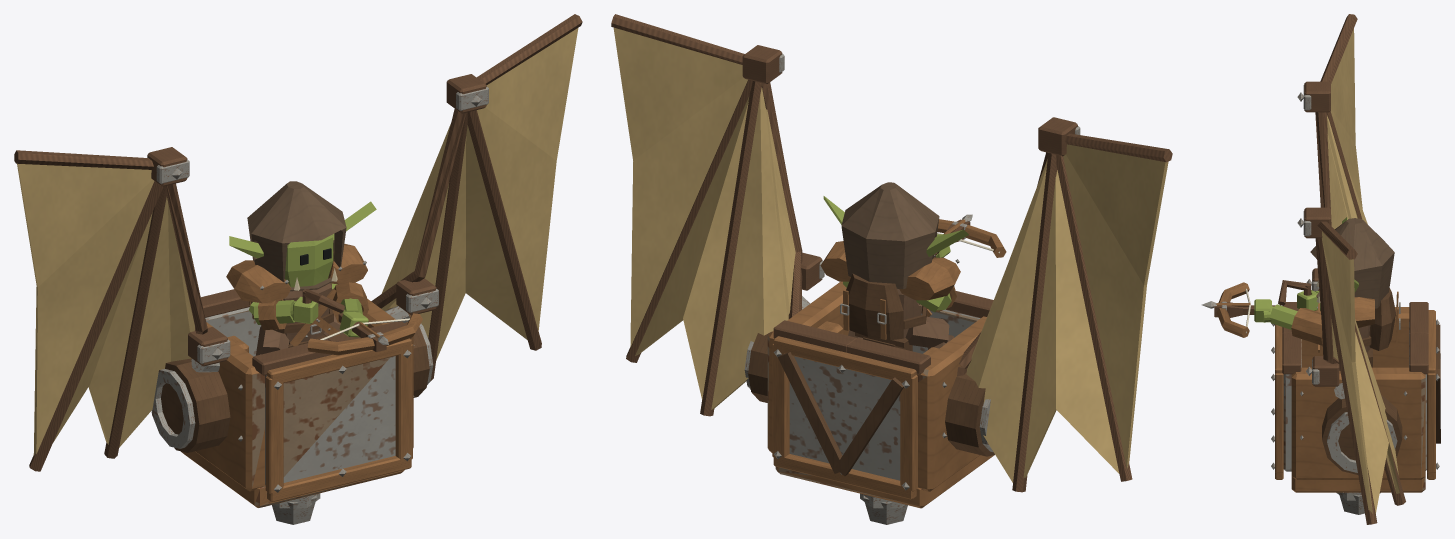
Rendered from host_28.glb.
The picture shows the model from 3 angles, left to right: view 1: azimuth 30°, elevation 25°; view 2: azimuth 150°, elevation 25°; view 3: azimuth 270°, elevation 25°; orthographic projection. The views are drawn at different scales.
Visible parts, largest first — view 1: Source RIGHT broad angular tan mechanical wing sail, Source LEFT broad angular tan mechanical wing sail, Connected riveted source hull with genuine OPEN top cockpit, Rider true deep peaked open source cowl, Rider one connected body, skull, ears, two arms, compact pal, Source LEFT wooden wing strut 0, Source RIGHT large visible side drum engine, Source RIGHT wooden wing strut 0, Source RIGHT wooden wing strut 1, Source LEFT wooden wing strut 1, Source RIGHT wooden wing strut 2, Source LEFT wooden wing strut 2 (+17 smaller); view 2: Source LEFT broad angular tan mechanical wing sail, Source RIGHT broad angular tan mechanical wing sail, Connected riveted source hull with genuine OPEN top cockpit, Rider true deep peaked open source cowl, Source LEFT wooden wing strut 0, Source LEFT wooden wing strut 2, Source RIGHT wooden wing strut 2, Source RIGHT wooden wing strut 1, Rider actual source broad rear leather pack, Source RIGHT large visible side drum engine, Source LEFT wooden wing strut 1, Rider one connected body, skull, ears, two arms, compact pal (+17 smaller); view 3: Connected riveted source hull with genuine OPEN top cockpit, Source LEFT broad angular tan mechanical wing sail, Source RIGHT broad angular tan mechanical wing sail, Rider true deep peaked open source cowl, Source RIGHT wooden wing strut 0, Source LEFT large visible side drum engine, Source LEFT wooden wing strut 0, Source LEFT wooden wing strut 1, Rider one connected body, skull, ears, two arms, compact pal, Rider actual source broad rear leather pack, Source LEFT actual open steel engine rim, Rider LEFT actual open sleeve cuff (+17 smaller).
Part boxes in pixels (left/top/right/bottom): Source RIGHT broad angular tan mechanical wing sail: left=17, top=163, right=194, bottom=455; Source LEFT broad angular tan mechanical wing sail: left=381, top=28, right=578, bottom=360; Connected riveted source hull with genuine OPEN top cockpit: left=181, top=299, right=413, bottom=507; Rider true deep peaked open source cowl: left=247, top=181, right=346, bottom=291; Rider one connected body, skull, ears, two arms, compact pal: left=229, top=201, right=376, bottom=355; Source LEFT wooden wing strut 0: left=371, top=14, right=582, bottom=308; Source RIGHT large visible side drum engine: left=161, top=358, right=230, bottom=452; Source RIGHT wooden wing strut 0: left=14, top=150, right=207, bottom=334; Source RIGHT wooden wing strut 1: left=29, top=181, right=163, bottom=471; Source LEFT wooden wing strut 1: left=467, top=110, right=541, bottom=350; Source RIGHT wooden wing strut 2: left=104, top=186, right=166, bottom=458; Source LEFT wooden wing strut 2: left=428, top=112, right=467, bottom=380; Source LEFT broad angular tan mechanical wing sail: left=613, top=27, right=795, bottom=409; Source RIGHT broad angular tan mechanical wing sail: left=966, top=144, right=1168, bottom=482; Connected riveted source hull with genuine OPEN top cockpit: left=767, top=281, right=994, bottom=508; Rider true deep peaked open source cowl: left=841, top=182, right=939, bottom=289; Source LEFT wooden wing strut 0: left=611, top=14, right=802, bottom=318; Source LEFT wooden wing strut 2: left=700, top=81, right=761, bottom=416; Source RIGHT wooden wing strut 2: left=1012, top=153, right=1057, bottom=492; Source RIGHT wooden wing strut 1: left=1056, top=155, right=1132, bottom=481; Rider actual source broad rear leather pack: left=846, top=273, right=903, bottom=340; Source RIGHT large visible side drum engine: left=945, top=372, right=994, bottom=456; Source LEFT wooden wing strut 1: left=626, top=79, right=752, bottom=362; Rider one connected body, skull, ears, two arms, compact pal: left=823, top=196, right=968, bottom=349; Connected riveted source hull with genuine OPEN top cockpit: left=1283, top=307, right=1426, bottom=492; Source LEFT broad angular tan mechanical wing sail: left=1322, top=231, right=1400, bottom=513; Source RIGHT broad angular tan mechanical wing sail: left=1327, top=29, right=1367, bottom=229; Rider true deep peaked open source cowl: left=1310, top=218, right=1394, bottom=308; Source RIGHT wooden wing strut 0: left=1315, top=14, right=1357, bottom=225; Source LEFT large visible side drum engine: left=1322, top=395, right=1402, bottom=474; Source LEFT wooden wing strut 0: left=1315, top=221, right=1357, bottom=370; Source LEFT wooden wing strut 1: left=1317, top=238, right=1377, bottom=524; Rider one connected body, skull, ears, two arms, compact pal: left=1254, top=217, right=1358, bottom=329; Rider actual source broad rear leather pack: left=1369, top=288, right=1395, bottom=350; Source LEFT actual open steel engine rim: left=1327, top=412, right=1397, bottom=472; Rider LEFT actual open sleeve cuff: left=1291, top=308, right=1322, bottom=345.
Bounding box in the file's own units: 3.66 × 2.71 × 1.56.
Materials: 22 (21 with a texture image).
